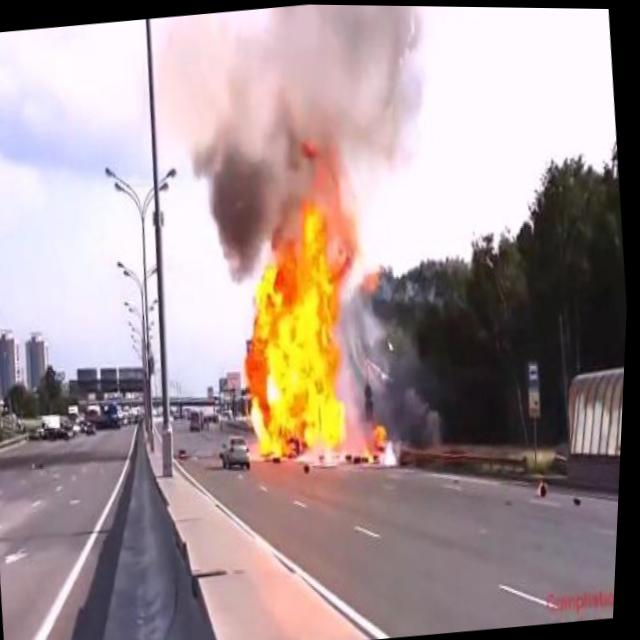fire: (223, 165, 407, 481)
